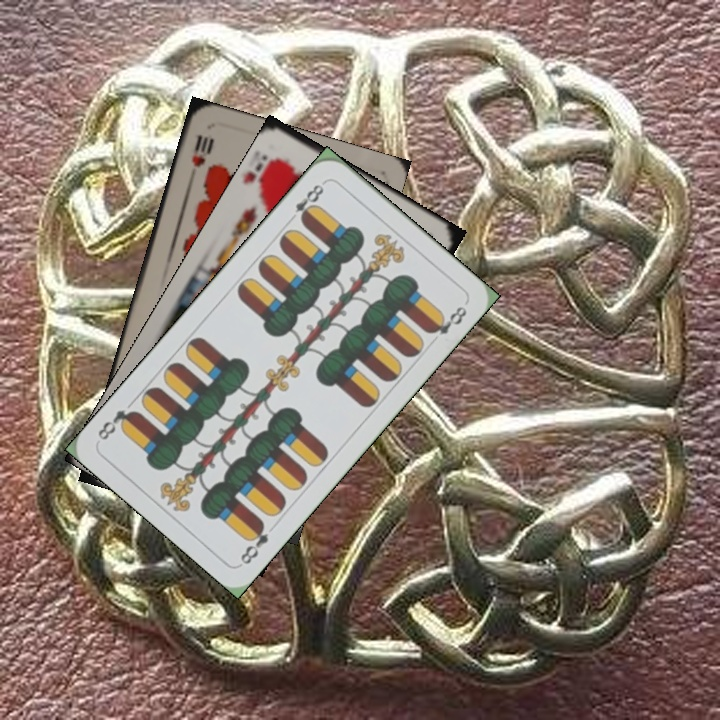E8: (284, 177, 328, 226), (236, 518, 272, 567)
H10: (187, 131, 215, 170)
HK: (251, 150, 283, 200)
